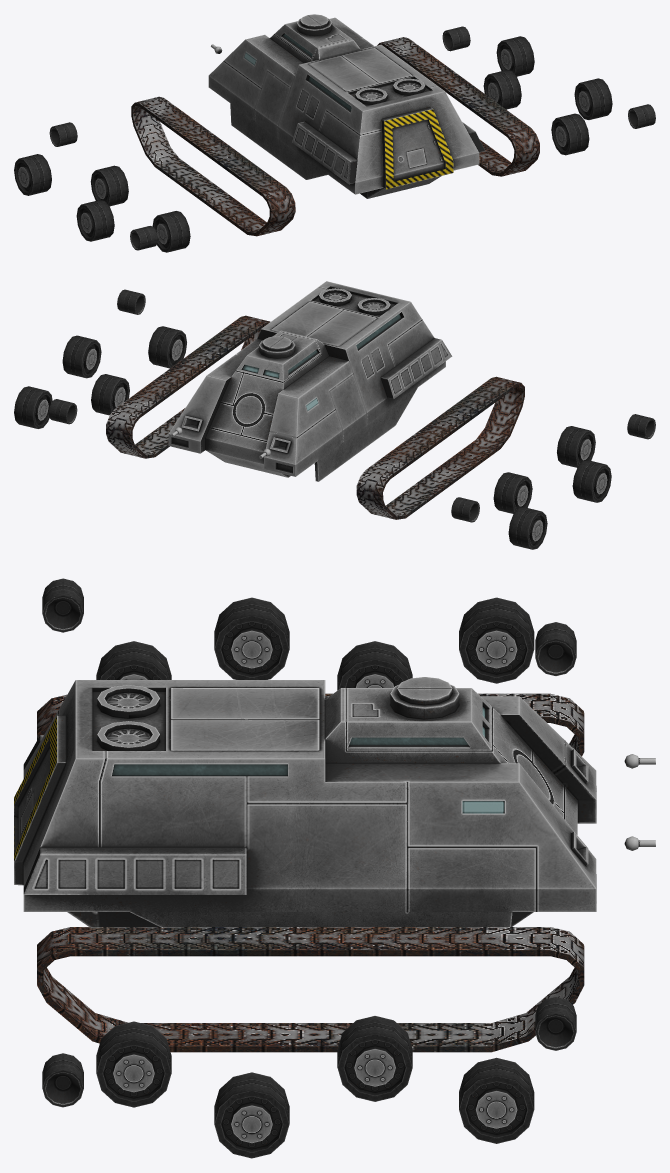
File: APC explo.FBX
The picture shows the model from 3 angles, top to bottom: view 1: azimuth 30°, elevation 25°; view 2: azimuth 150°, elevation 25°; view 3: azimuth 270°, elevation 25°; orthographic projection. The views are drawn at different scales.
Parts seen in each view (by area): view 1: body, trackr, trackl, wheel10, wheel4, wheel11, wheel2, wheel5, wheel3, wheel8, wheel9, wheel7 (+3 smaller); view 2: body, trackr, trackl, wheel10, wheel2, wheel4, wheel11, wheel8, wheel3, wheel5, wheel9, wheel12 (+3 smaller); view 3: body, trackl, wheel10, wheel11, wheel8, wheel2, wheel9, wheel4, wheel3, trackr, wheel5, wheel6 (+3 smaller).
Boxes of the visible parts, x1,y1,x2,y2 form: body: (208,14,485,198); trackr: (131,96,295,236); trackl: (377,37,539,176); wheel10: (574,78,612,119); wheel4: (76,200,114,241); wheel11: (551,113,589,155); wheel2: (14,154,51,195); wheel5: (152,211,190,252); wheel3: (90,165,128,206); wheel8: (496,36,534,76); wheel9: (483,69,521,109); wheel7: (442,26,470,51); body: (168,281,452,481); trackr: (356,376,524,519); trackl: (106,315,270,458); wheel10: (62,335,101,378); wheel2: (508,507,547,549); wheel4: (572,460,611,502); wheel11: (148,326,186,368); wheel8: (14,386,52,428); wheel3: (493,472,532,513); wheel5: (557,426,595,467); wheel9: (91,374,129,415); wheel12: (117,289,145,314); body: (14,677,596,926); trackl: (37,927,584,1052); wheel10: (214,1072,289,1158); wheel11: (96,1021,171,1107); wheel8: (459,1057,534,1143); wheel2: (459,597,534,683); wheel9: (337,1016,412,1101); wheel4: (214,597,289,679); wheel3: (337,641,412,690); trackr: (37,693,584,756); wheel5: (96,641,171,679); wheel6: (42,578,83,632).
Bounding box in the file's own units: 74.83 × 17.24 × 41.21.
1 material, 1 textured.
